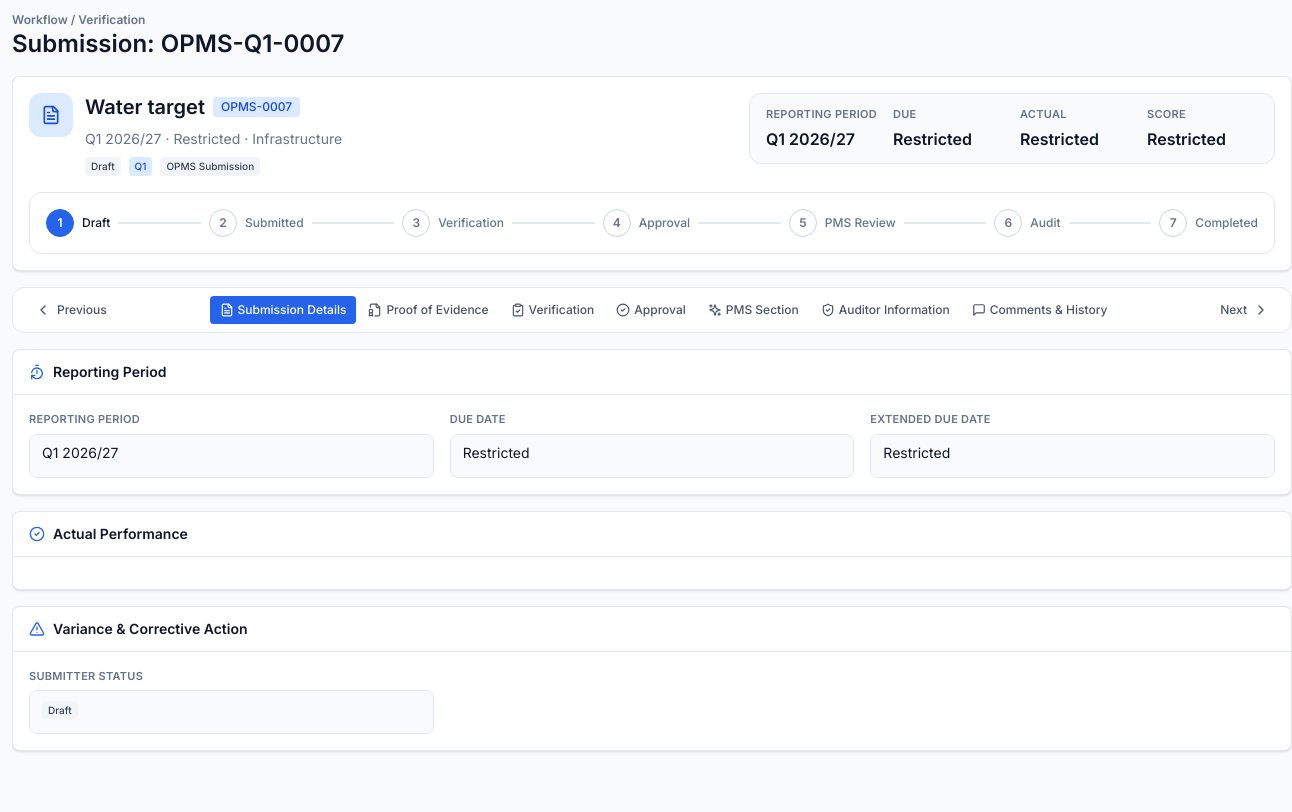
it: SubmissionWorkspace member security › does not render or make searchable masked due-date extension reason and actor values
Click the tab "Comments & History" at (1040, 310), box [962, 296, 1117, 324]
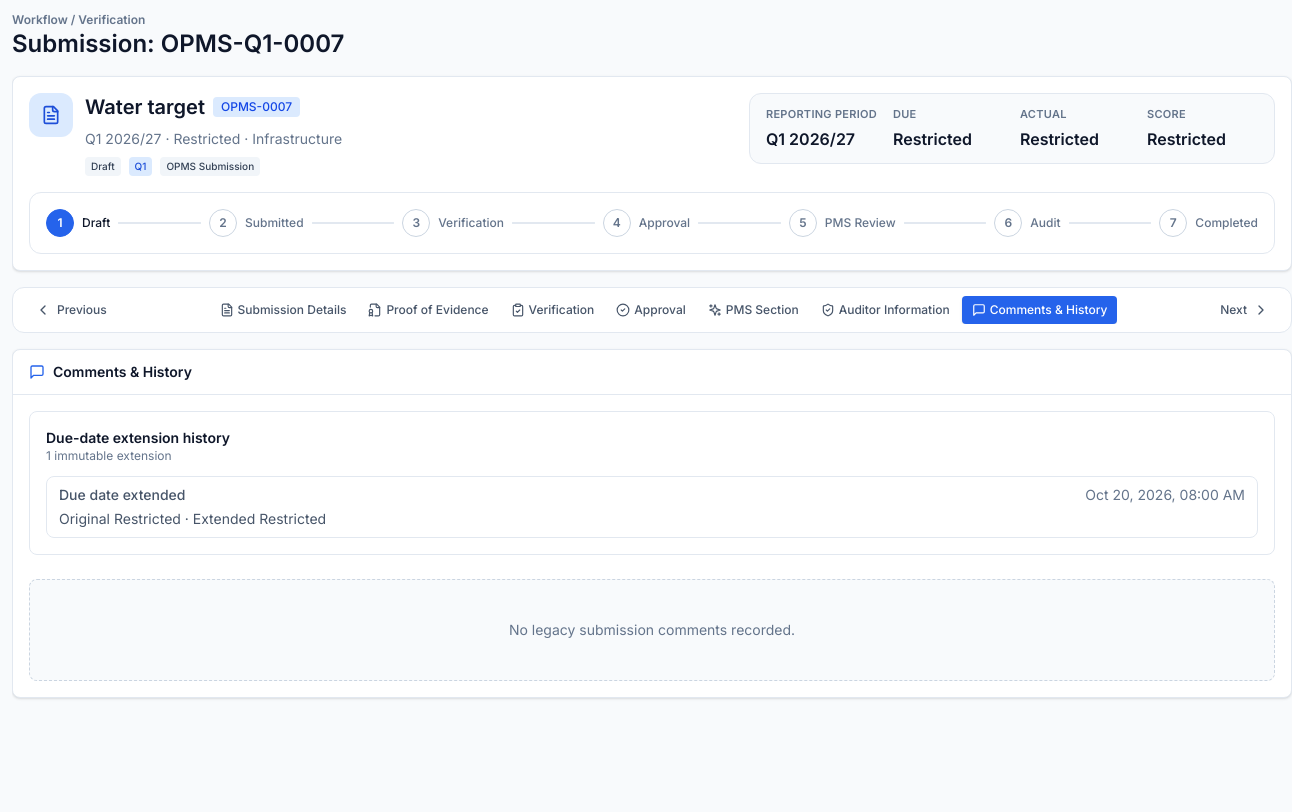
Result: the text "1 immutable extension" is shown at [46, 448, 172, 463]
Result: the text "Original Restricted · Extended Restricted" is shown at [59, 510, 326, 527]
